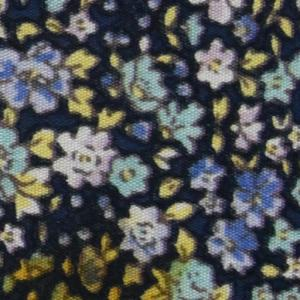Oil Stain: (1, 228, 177, 300)
